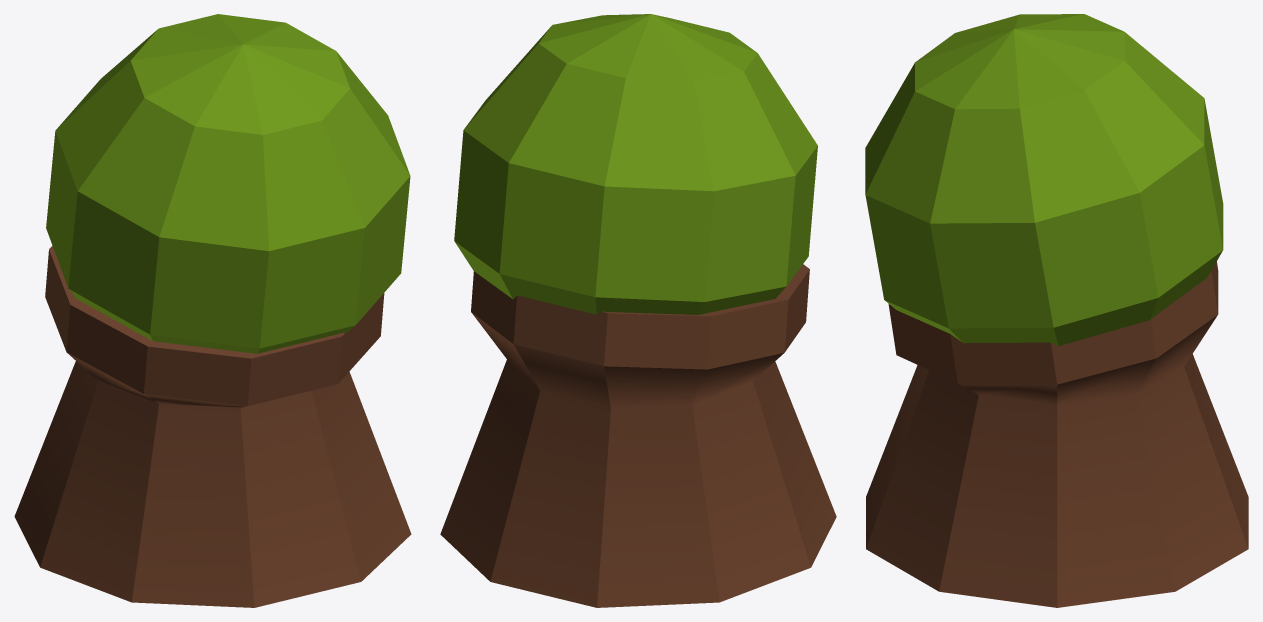
File: Nature_TreeTower.fbx
3 renders of one model, left to right at view 1: azimuth 30°, elevation 25°; view 2: azimuth 150°, elevation 25°; view 3: azimuth 270°, elevation 25°, orthographic.
Parts seen in each view (by area): view 1: polySurface6; view 2: polySurface6; view 3: polySurface6.
Part boxes in pixels (box(x1,y1,x2,y2)): polySurface6: box(14, 14, 411, 607); polySurface6: box(440, 14, 836, 607); polySurface6: box(865, 14, 1248, 607).
Bounding box in the file's own units: 155 × 212 × 148.
